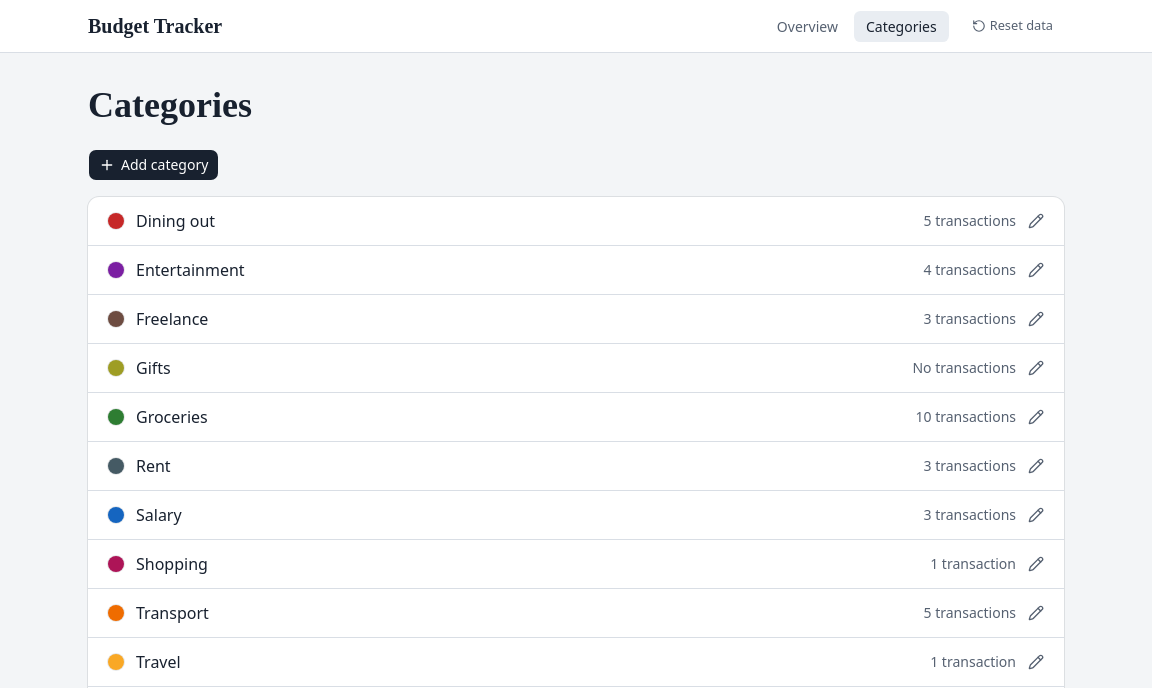
Scenario: resetting the data › goes back to the data from the file after confirmation
The width and height of the screenshot is (1152, 688).
Click the button with aria-label "Edit category: Gifts, No transactions": (153, 368) [88,344,1064,392]
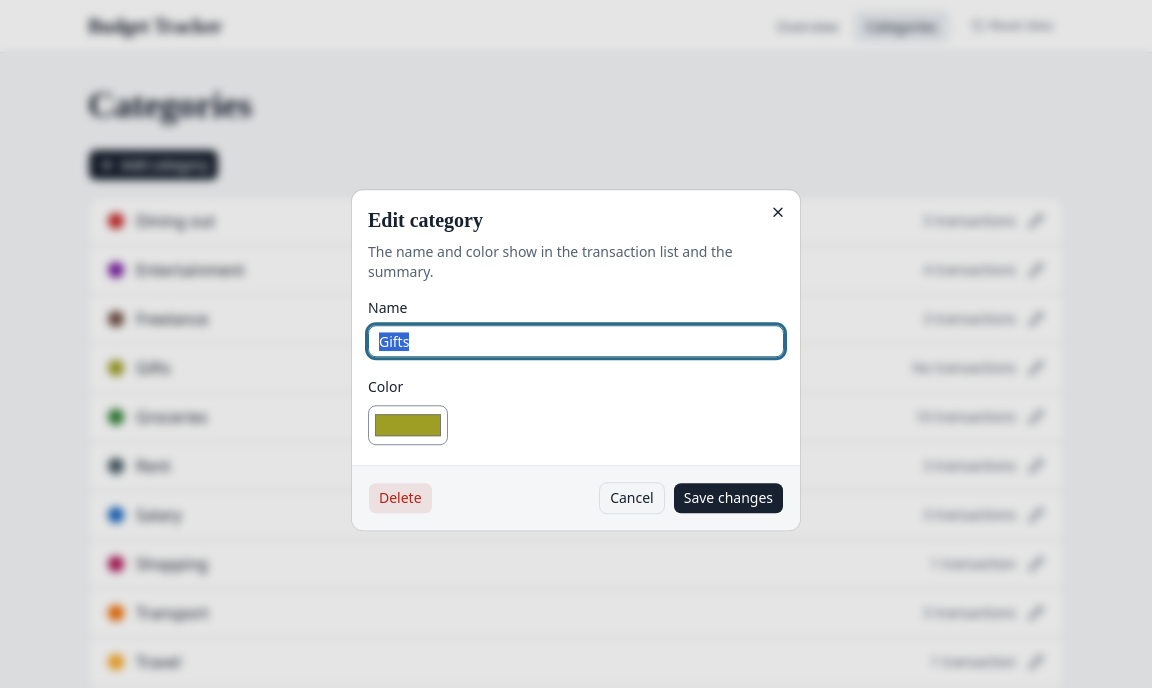
Click the button "Delete": (400, 498) [368,482,433,514]
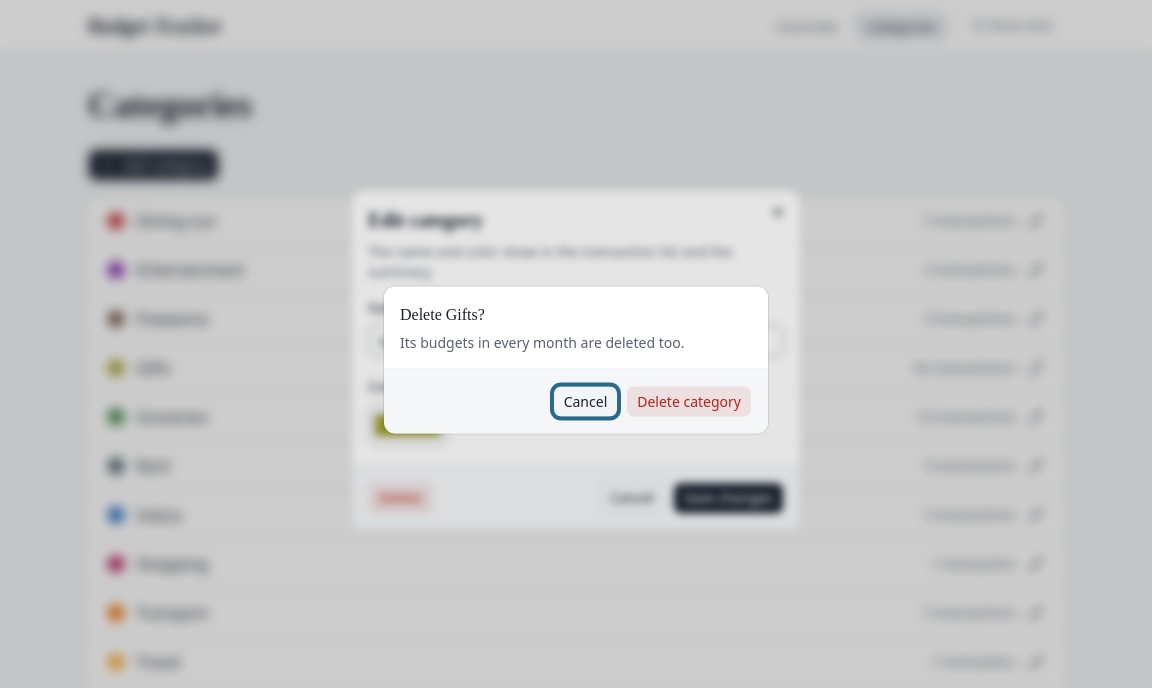
Click the button "Delete category": (689, 402) [626,386,752,418]
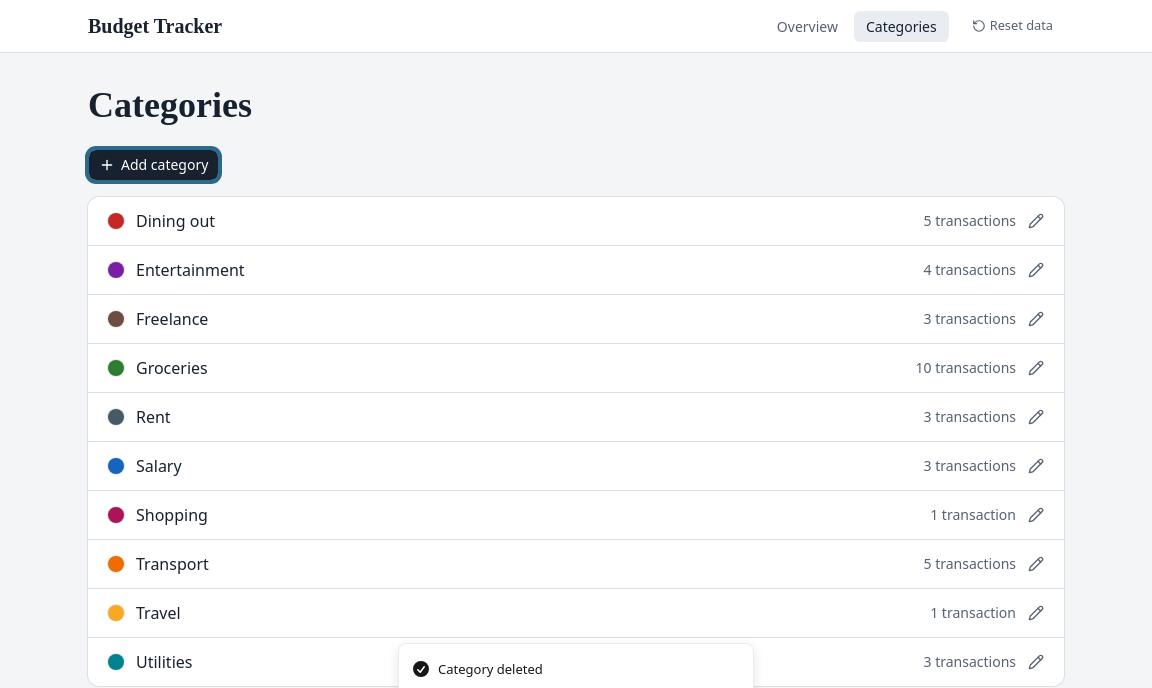
Expected: the text "Category deleted" is shown, [438,660,543,679]
Click the button "Reset data": (1012, 26) [961,12,1064,40]
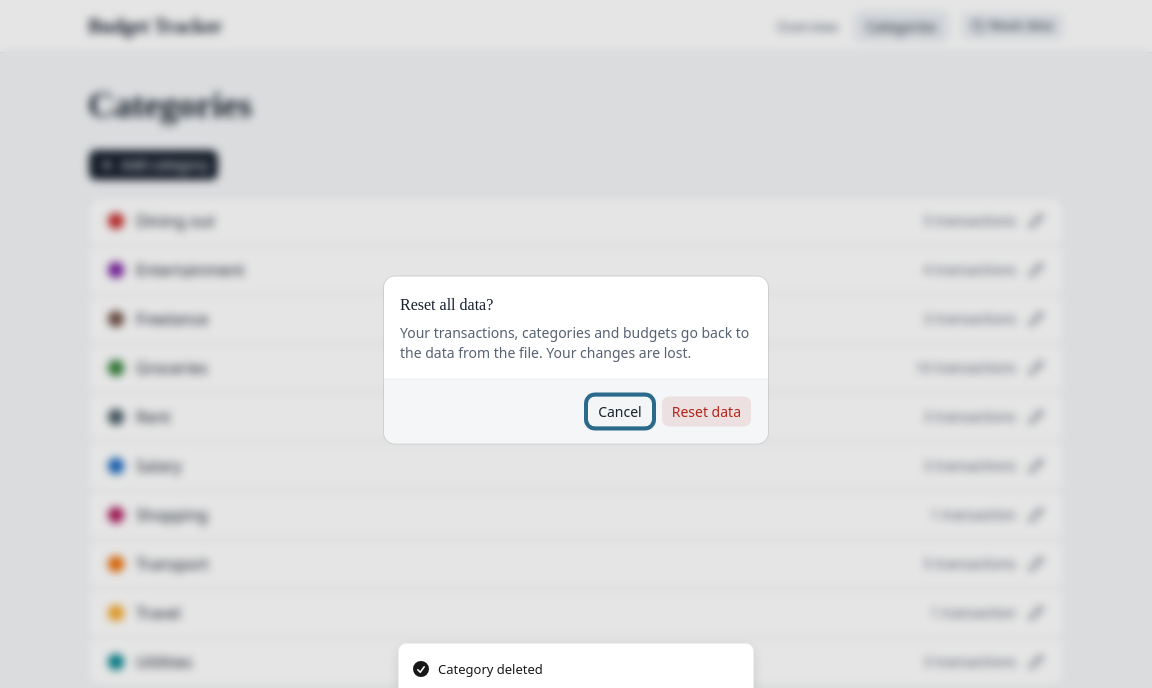
Click the button "Reset data": (706, 412) [661,396,752,428]
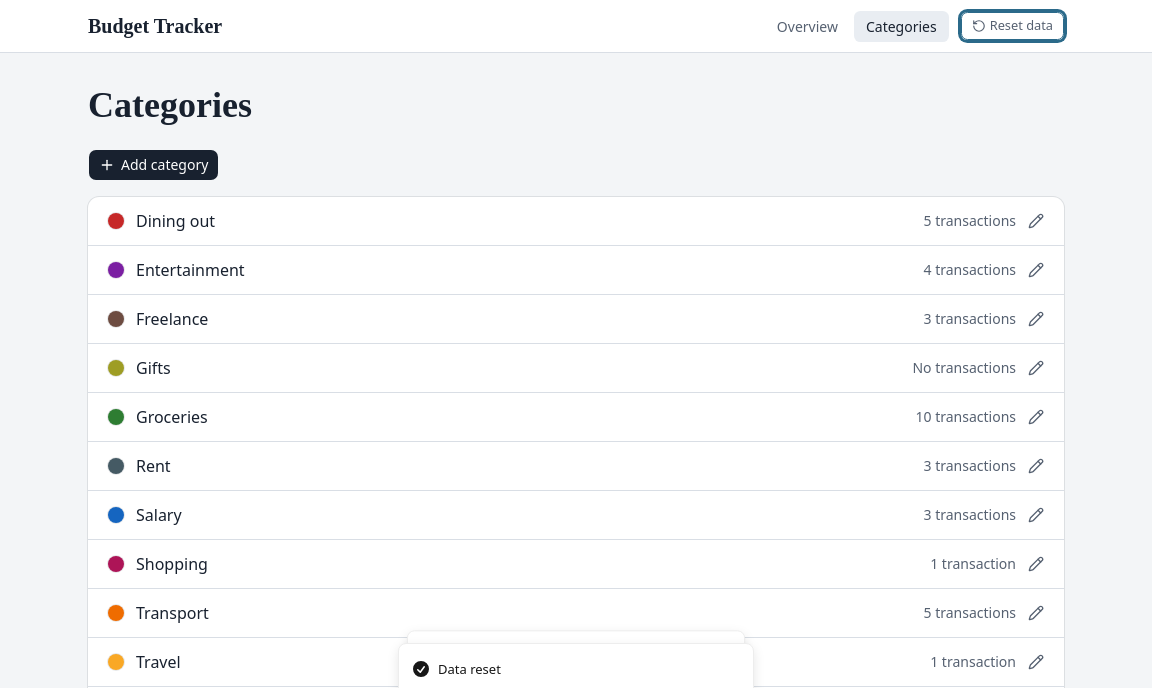
Expected: the text "Data reset" is shown, [438,660,501,679]
Expected: the button with aria-label "Edit category: Gifts, No transactions" is shown, [88,344,1064,392]
